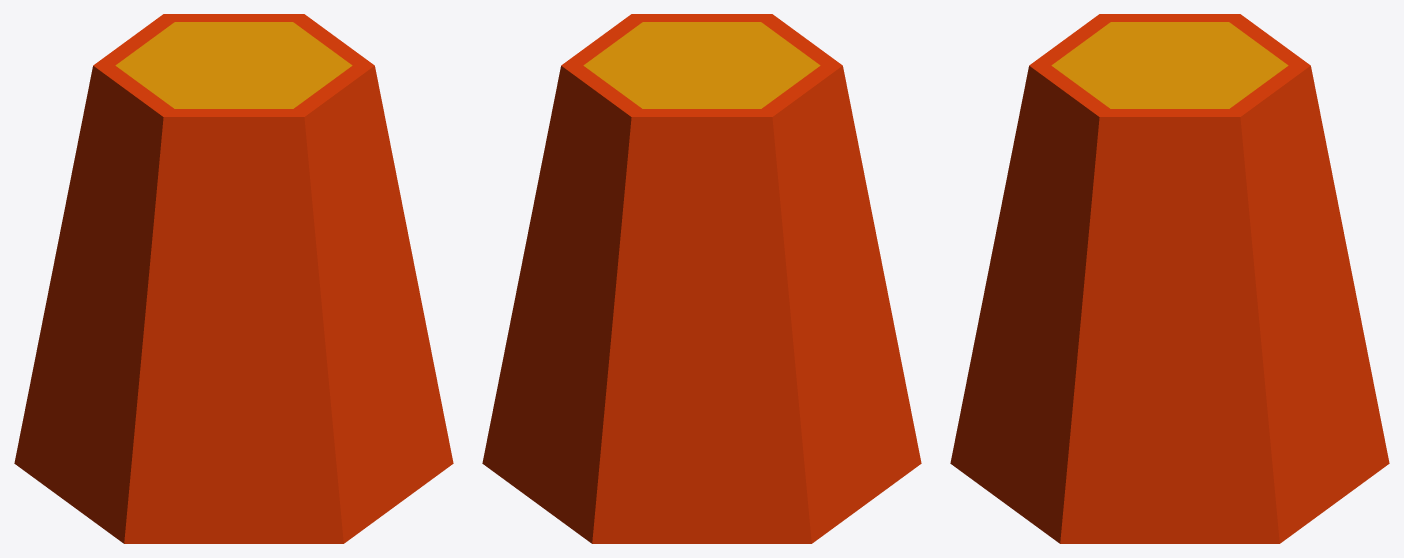
The model's file is Wycietev1.fbx.
3 views of the same model, side by side, from view 1: azimuth 30°, elevation 25°; view 2: azimuth 150°, elevation 25°; view 3: azimuth 270°, elevation 25° (orthographic).
Parts seen in each view (by area): view 1: Walec; view 2: Walec; view 3: Walec.
Boxes of the visible parts, box(x1,y1,x2,y2) form: Walec: box(14, 14, 453, 543); Walec: box(482, 14, 921, 543); Walec: box(950, 14, 1389, 543).
Bounding box in the file's own units: 157 × 181 × 181.
